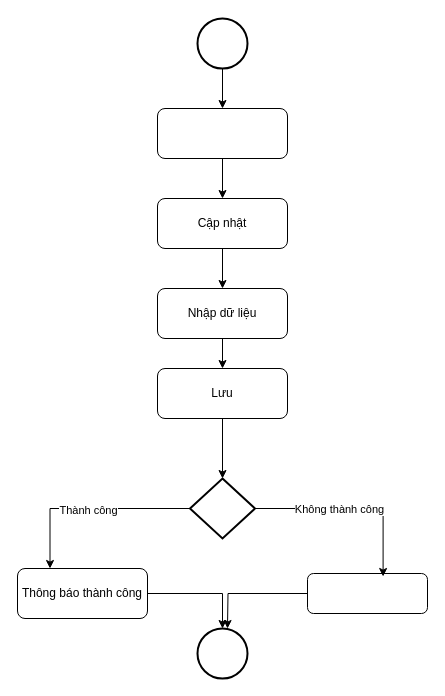
Image size: 445x696. Some labels were removed from this diagram. Here are the shapes that lost their labels. From the top down, the centre of each, then its label:
At point 222,133: "Hiện thị danh sách Tên Website".
At point 367,593: "Thông báo lỗi".
